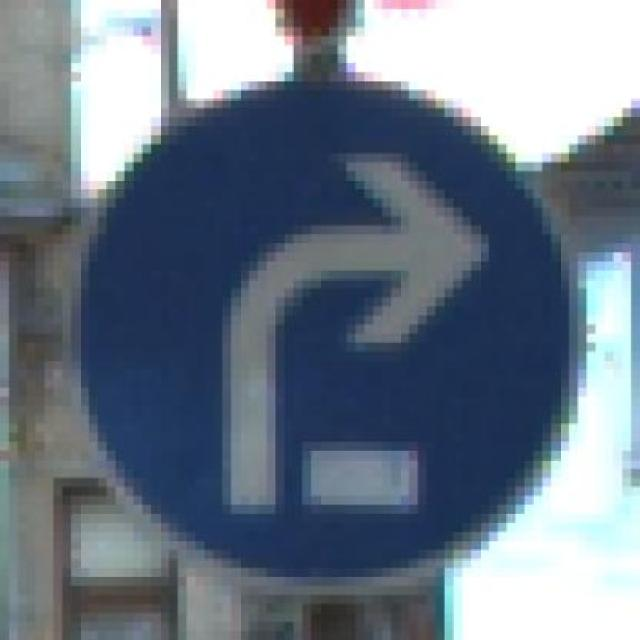Turn right ahead: (68, 65, 592, 598)
